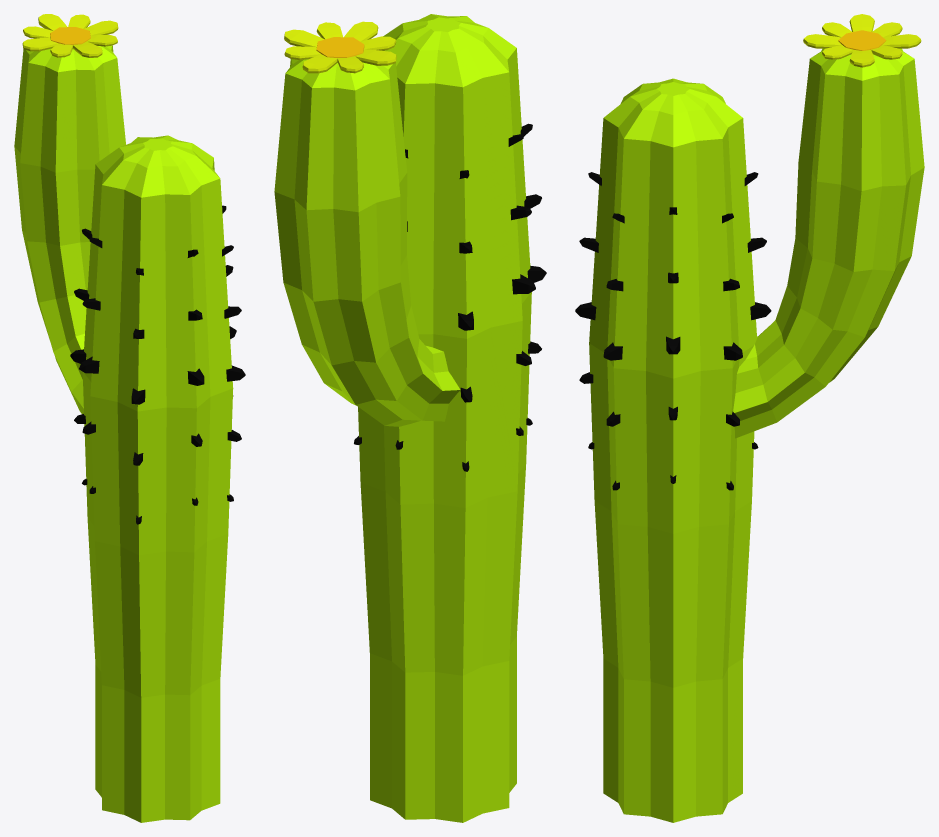
The model's file is Cardon03_01Brazo_Flor_Amarilla.fbx.
3 renders of one model, left to right at view 1: azimuth 30°, elevation 25°; view 2: azimuth 150°, elevation 25°; view 3: azimuth 270°, elevation 25°, orthographic. The views are drawn at different scales.
Parts seen in each view (by area): view 1: Cactus_Cuerpo, Espinas, Flor_Amarilla; view 2: Cactus_Cuerpo, Flor_Amarilla, Espinas; view 3: Cactus_Cuerpo, Flor_Amarilla, Espinas.
Part boxes in pixels (x1,y1,x2,y2): Cactus_Cuerpo: (14,45,233,822); Espinas: (70,205,245,524); Flor_Amarilla: (22,14,118,57); Cactus_Cuerpo: (274,14,531,822); Flor_Amarilla: (284,21,396,73); Espinas: (354,123,546,471); Cactus_Cuerpo: (589,48,924,822); Flor_Amarilla: (803,14,921,67); Espinas: (575,172,771,490).
Size of the model in its own units: 53.18 by 226 by 94.85.
